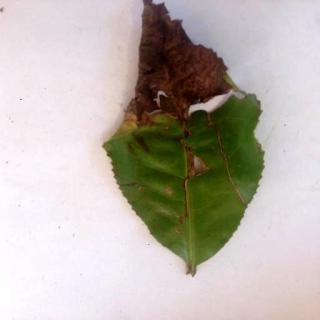Brown Blight: (102, 1, 267, 277)
